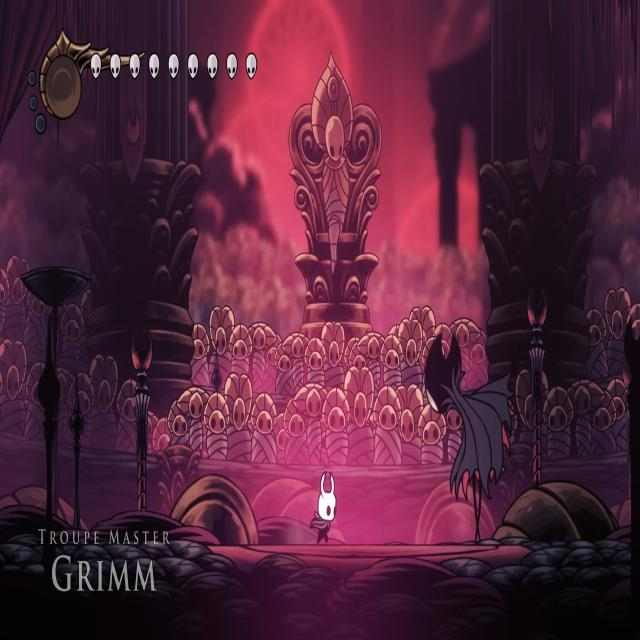Grimm: (419, 319, 517, 549)
Player: (310, 467, 338, 549)
